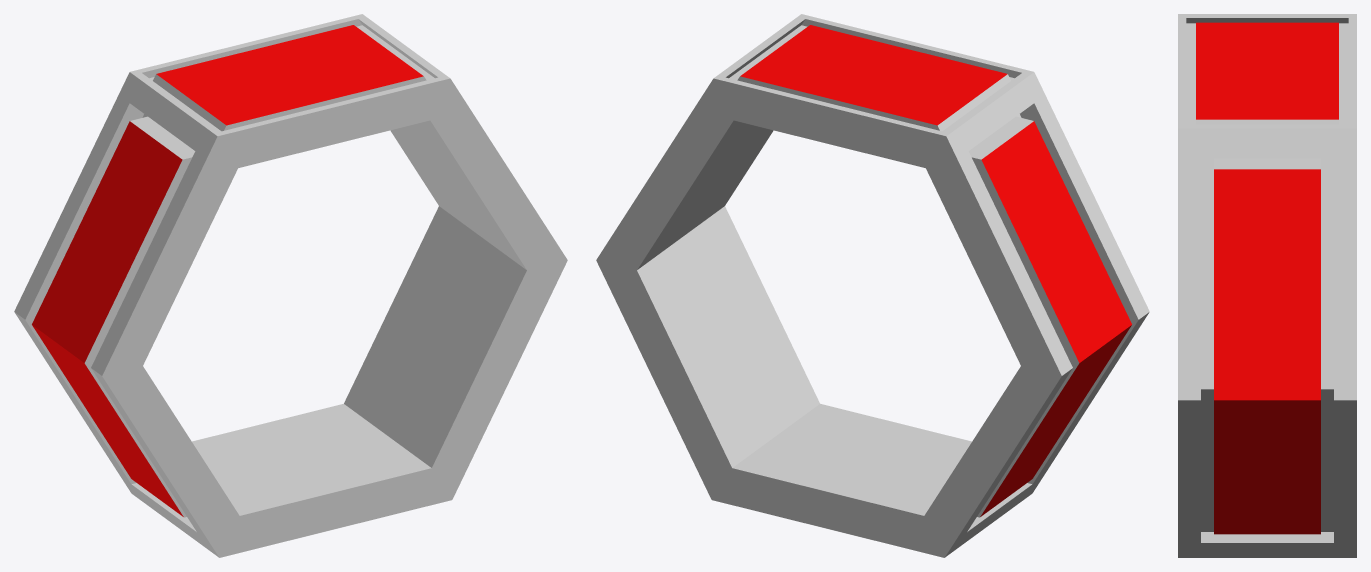
File: bridgesection2.obj
3 renders of one model, left to right at view 1: azimuth 30°, elevation 25°; view 2: azimuth 150°, elevation 25°; view 3: azimuth 270°, elevation 25°, orthographic.
Visible parts, largest first — view 1: object1; view 2: object1; view 3: object1.
Boxes of the visible parts, box(x1,y1,x2,y2) form: object1: box(14, 14, 567, 557); object1: box(596, 14, 1149, 557); object1: box(1178, 14, 1356, 557).
Size of the model in its own units: 16.81 by 14.6 by 5.5.
